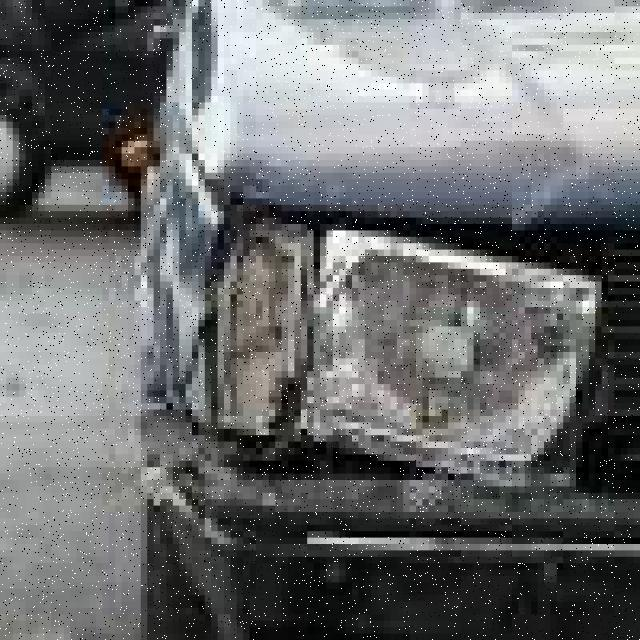Headlight-Damage: (103, 198, 634, 512)
